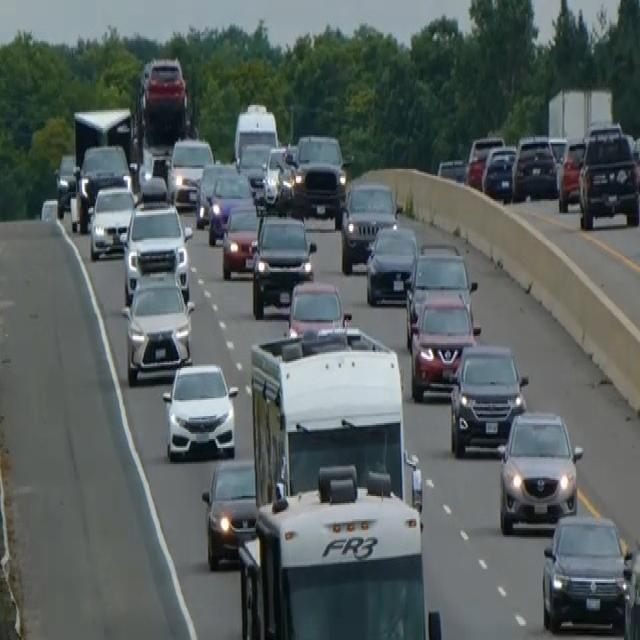bus: (236, 464, 441, 638), (248, 325, 420, 514)
car: (541, 512, 634, 633), (497, 407, 583, 533), (449, 341, 528, 457), (122, 268, 195, 384), (409, 290, 480, 400), (161, 361, 238, 462), (122, 198, 192, 302), (404, 245, 475, 345), (250, 212, 316, 318), (577, 124, 639, 230), (201, 455, 258, 569), (339, 180, 398, 274), (71, 142, 133, 231), (365, 220, 418, 306), (139, 53, 188, 139), (286, 277, 348, 338), (88, 182, 136, 260), (207, 167, 254, 245), (167, 135, 214, 208), (220, 199, 262, 279), (511, 133, 558, 201), (194, 160, 236, 226), (557, 135, 586, 212), (237, 140, 273, 201), (262, 144, 296, 208), (464, 134, 504, 188), (481, 142, 516, 201), (137, 146, 172, 199), (622, 540, 639, 638), (53, 151, 77, 215), (436, 157, 466, 183)
jeep: (292, 131, 349, 217)
minibus: (232, 102, 278, 164)
